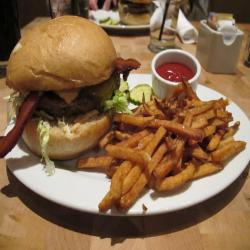burger: (2, 14, 130, 162)
fries: (97, 96, 243, 211)
ketchup: (148, 45, 202, 101)
